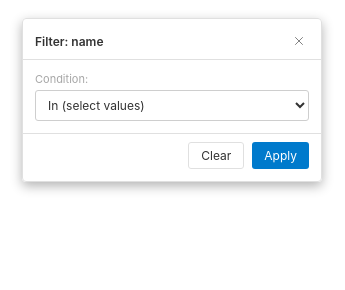
it: FilterPopup › text column filters (varchar/nvarchar/text) › shows case sensitive toggle for text filters
# switch from default 'in' to 'contains' to reveal toggle
Step 1. Select "Contains" in the dropdown → (172, 106), box x1=35 y1=90 x2=309 y2=121
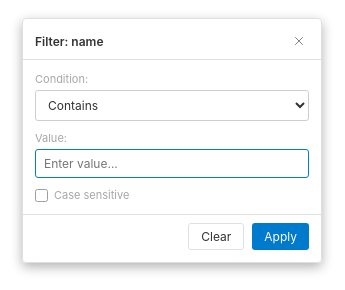
Now the text "Case sensitive" is shown, box x1=35 y1=188 x2=129 y2=202
